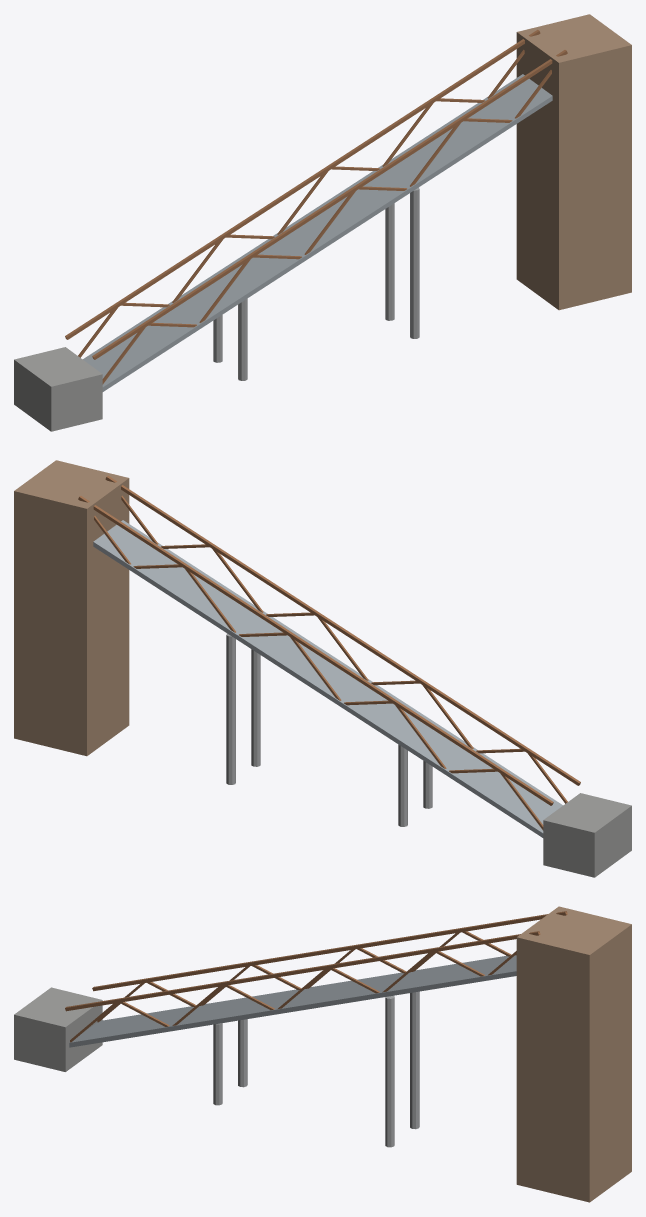
File: ConveyorGallery.glb
The picture shows the model from 3 angles, top to bottom: view 1: azimuth 30°, elevation 25°; view 2: azimuth 150°, elevation 25°; view 3: azimuth 330°, elevation 25°; orthographic projection.
Visible parts, largest first — view 1: Transfer tower, Gallery deck, Tail house, Beam.054, Beam.034, Member.074, Member.075, Member.072; view 2: Transfer tower, Gallery deck, Tail house, Beam.034, Beam.054, Member.075, Member.074, Member.073; view 3: Transfer tower, Gallery deck, Tail house, Beam.034, Beam.054, Member.074, Member.075, Member.072, Member.073.
Part boxes in pixels (x1,y1,x2,y2): Transfer tower: [516, 14, 631, 310]; Gallery deck: [83, 74, 552, 391]; Tail house: [14, 347, 102, 431]; Beam.054: [65, 29, 540, 339]; Beam.034: [92, 50, 567, 359]; Member.074: [410, 187, 419, 338]; Member.075: [385, 203, 394, 320]; Member.072: [238, 298, 247, 380]; Transfer tower: [14, 460, 129, 756]; Gallery deck: [93, 520, 562, 837]; Tail house: [543, 793, 631, 877]; Beam.034: [105, 475, 580, 785]; Beam.054: [78, 496, 553, 805]; Member.075: [226, 633, 235, 784]; Member.074: [251, 649, 260, 766]; Member.073: [398, 744, 407, 826]; Transfer tower: [516, 906, 631, 1202]; Gallery deck: [69, 955, 516, 1047]; Tail house: [14, 987, 102, 1071]; Beam.034: [65, 931, 540, 1011]; Beam.054: [92, 911, 567, 991]; Member.074: [385, 995, 394, 1147]; Member.075: [410, 991, 419, 1129]; Member.072: [213, 1023, 222, 1105]; Member.073: [238, 1019, 247, 1087].
Size of the model in its own units: 26.9 by 11.17 by 3.4.
